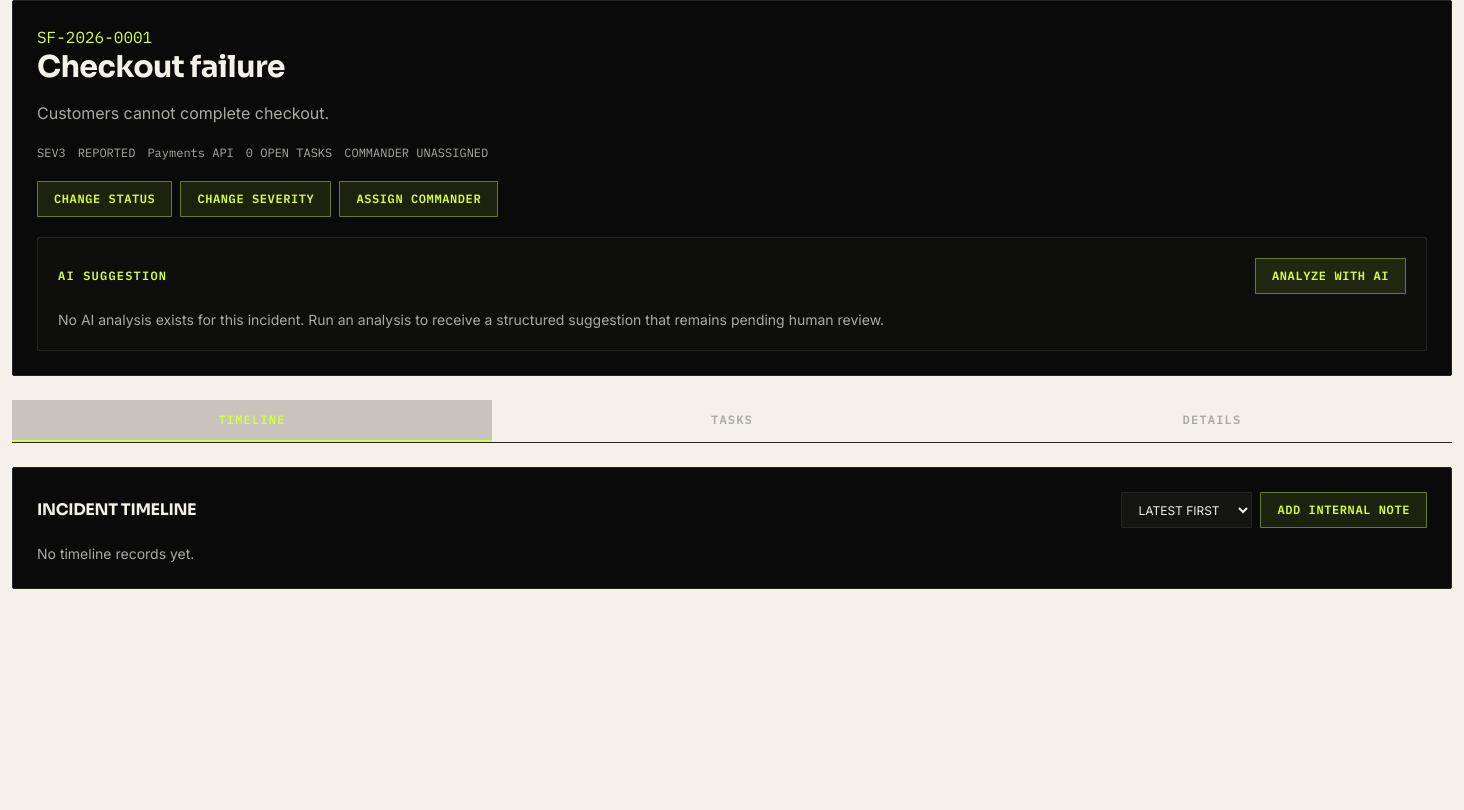
it: Phase 07 AI triage UI › shows a safe error message on analysis failure without disabling manual controls
The image size is (1464, 810).
Click the button "ANALYZE WITH AI" at {"x": 1330, "y": 276}, box [1255,258,1406,294]
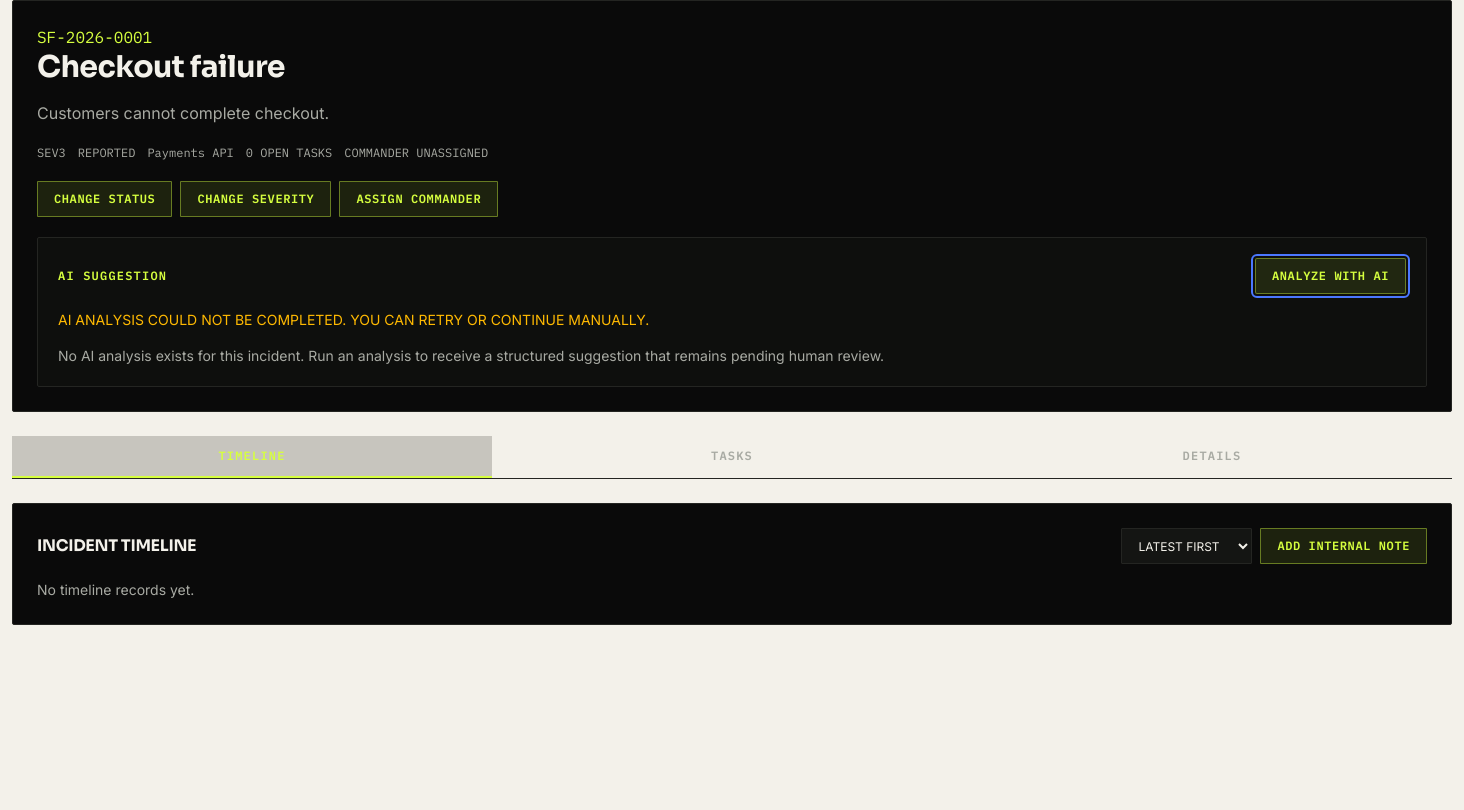
Expected: the button "CHANGE STATUS" is shown, [37,181,172,217]
Expected: the text "AI ANALYSIS COULD NOT BE COMPLETED" is shown, [58,311,649,328]
